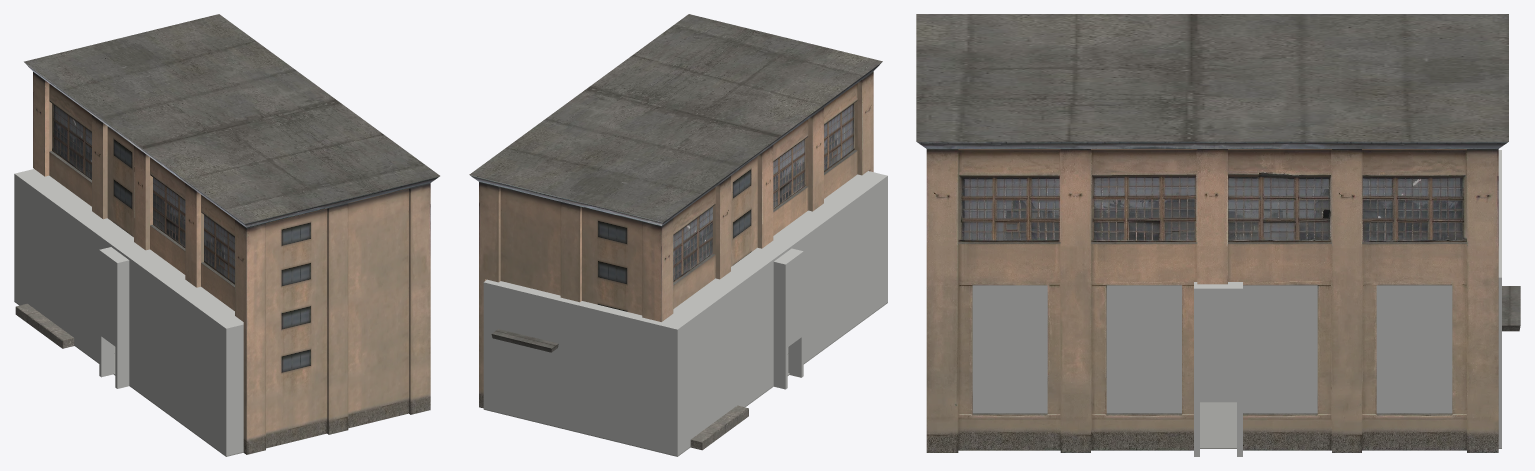
Rendered from factory-hall.access-v9.lod0.glb.
3 views of the same model, side by side, from view 1: azimuth 30°, elevation 25°; view 2: azimuth 150°, elevation 25°; view 3: azimuth 270°, elevation 25° (orthographic). The views are drawn at different scales.
Parts seen in each view (by area): view 1: factory_1_factory_1_0, Walkable floors and stairs; view 2: factory_1_factory_1_0, Walkable floors and stairs (×2); view 3: factory_1_factory_1_0, Walkable floors and stairs (×2).
Part boxes in pixels (<box>): factory_1_factory_1_0: <box>15,14,439,454</box>; Walkable floors and stairs: <box>14,169,243,455</box>; factory_1_factory_1_0: <box>469,14,882,450</box>; Walkable floors and stairs (×2): <box>483,171,887,456</box>; factory_1_factory_1_0: <box>916,14,1520,452</box>; Walkable floors and stairs (×2): <box>972,150,1501,456</box>.
Size of the model in its own units: 14.6 by 14.96 by 26.
3 materials, 1 textured.
